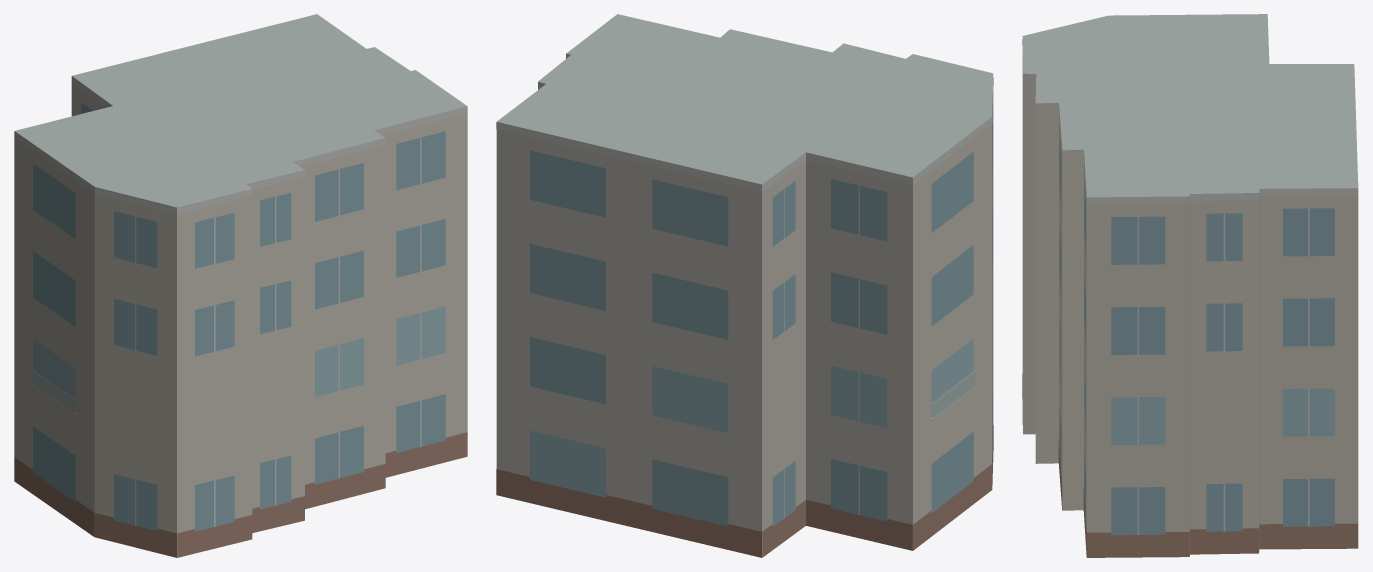
File: survey-upis-32656740.glb
3 views of the same model, side by side, from view 1: azimuth 30°, elevation 25°; view 2: azimuth 150°, elevation 25°; view 3: azimuth 270°, elevation 25° (orthographic). The views are drawn at different scales.
Visible parts, largest first — view 1: survey-upis-32656740.tmp; view 2: survey-upis-32656740.tmp; view 3: survey-upis-32656740.tmp.
Boxes of the visible parts, bbox=[...] form: survey-upis-32656740.tmp: bbox=[14, 14, 467, 557]; survey-upis-32656740.tmp: bbox=[496, 14, 993, 557]; survey-upis-32656740.tmp: bbox=[1022, 14, 1358, 557].
Size of the model in its own units: 13.17 by 12.06 by 10.19.
